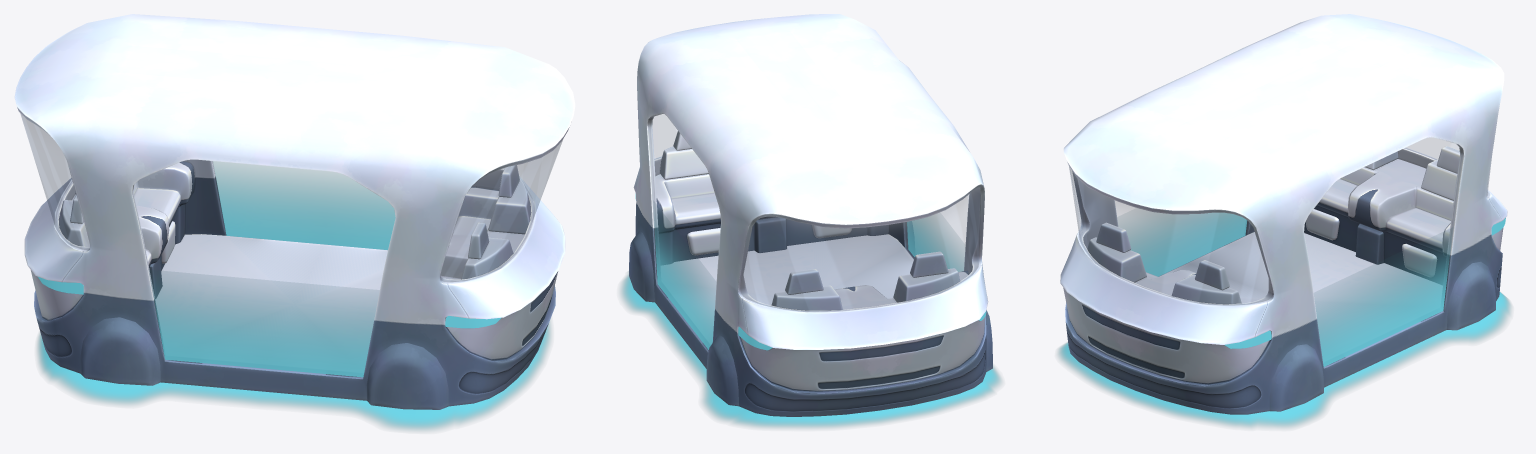
Rendered from obj_shuttle06.gltf.
The picture shows the model from 3 angles, left to right: view 1: azimuth 30°, elevation 25°; view 2: azimuth 150°, elevation 25°; view 3: azimuth 270°, elevation 25°; orthographic projection. The views are drawn at different scales.
Visible parts, largest first — view 1: obj_shuttle06_mesh, obj_shuttle06_shield02, obj_shuttle06_shield01; view 2: obj_shuttle06_mesh, obj_shuttle06_shield01, obj_shuttle06_shield02; view 3: obj_shuttle06_mesh, obj_shuttle06_shield01, obj_shuttle06_shield02.
Boxes of the visible parts, x1,y1,x2,y2 form: obj_shuttle06_mesh: (14,14,575,430); obj_shuttle06_shield02: (149,270,378,377); obj_shuttle06_shield01: (213,161,395,249); obj_shuttle06_mesh: (620,14,1001,428); obj_shuttle06_shield01: (653,202,715,349); obj_shuttle06_shield02: (907,215,964,271); obj_shuttle06_mesh: (1057,14,1511,427); obj_shuttle06_shield01: (1314,228,1452,366); obj_shuttle06_shield02: (1118,213,1246,276).
Size of what is drawn, in the model's own units: 5.8 by 3.23 by 5.7.
Materials: 3 (3 with a texture image).
